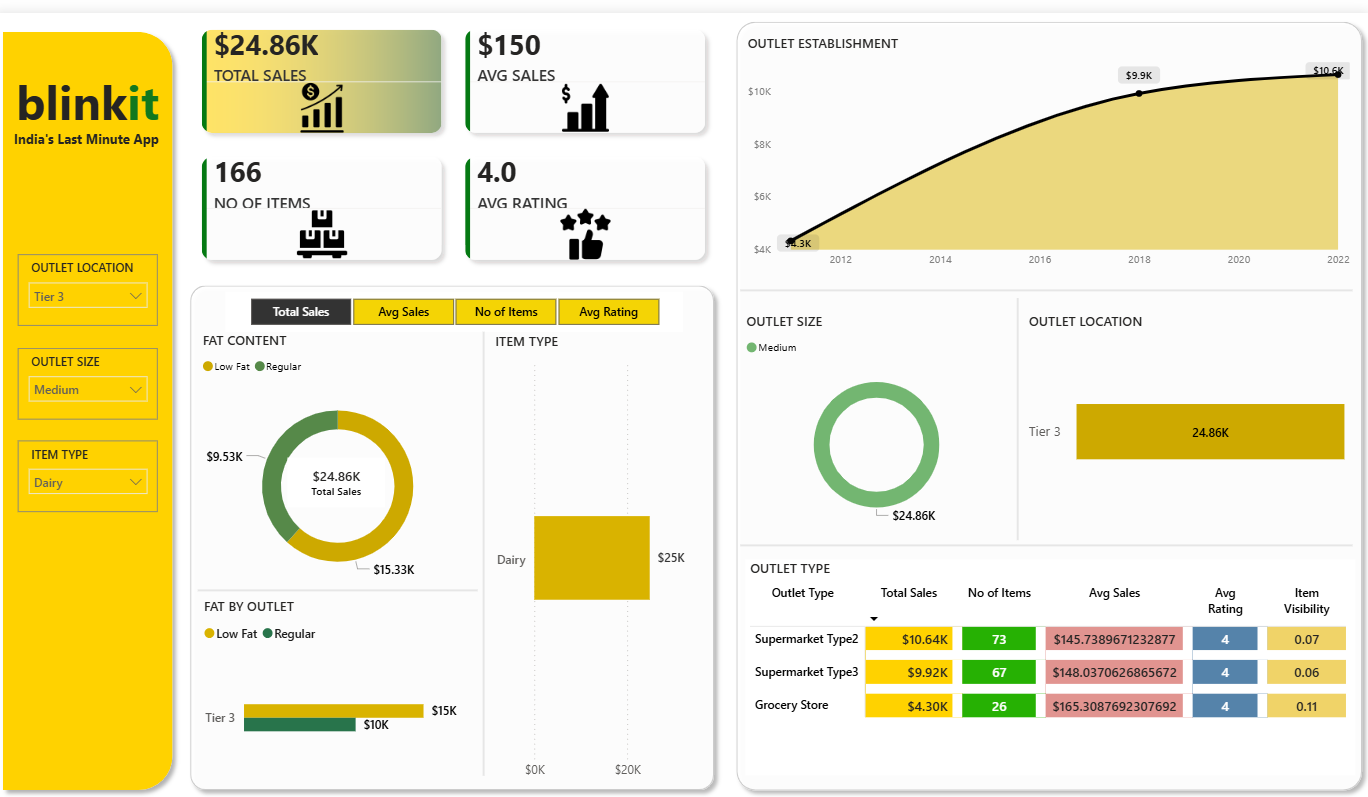

Layout of this report page (visuals, bound fields, positions):
{"tool":"powerbi","page":{"name":"Page 1","canvas":[1400,800],"ordinal":0},"visuals":[{"type":"shape","box":[0,10.5,190.6,789.5],"z":0},{"type":"textbox","box":[8.9,52.1,173,81.4],"z":1000},{"type":"textbox","box":[15.3,114.5,160.2,30.5],"z":2000},{"type":"cardVisual","fields":{"Data":["BlinkIT Grocery Data.Total Sales","BlinkIT Grocery Data.Avg Sales","BlinkIT Grocery Data.No of Items","BlinkIT Grocery Data.Avg Rating"]},"box":[194.6,0,546.9,268.3],"z":3000},{"type":"shape","box":[190.6,268.7,550.8,531.3],"z":4000},{"type":"donutChart","title":"FAT CONTENT","fields":{"Y":["BlinkIT Grocery Data.Total Sales"],"Category":["BlinkIT Grocery Data.Item Fat Content"]},"box":[207.1,322.7,285.2,271.7],"z":5000},{"type":"slicer","fields":{"Values":["Metrics.Metrics"]},"box":[235.6,283.7,465.3,40.5],"z":6000},{"type":"cardVisual","fields":{"Data":["BlinkIT Grocery Data.Total Sales"]},"box":[294.2,447.3,109.6,60],"z":7000},{"type":"clusteredBarChart","title":"FAT BY OUTLET","fields":{"Y":["BlinkIT Grocery Data.Total Sales"],"Category":["BlinkIT Grocery Data.Outlet Location Type"],"Series":["BlinkIT Grocery Data.Item Fat Content"]},"box":[208.4,594.1,284.4,194.6],"z":8000},{"type":"shape","box":[207.1,579.3,285.2,15],"z":9000},{"type":"shape","box":[492.3,324.2,12,451.8],"z":10000},{"type":"barChart","title":"ITEM TYPE","fields":{"Y":["BlinkIT Grocery Data.Total Sales"],"Category":["BlinkIT Grocery Data.Item Type"]},"box":[504.3,324.2,226.6,463.8],"z":11000},{"type":"shape","box":[745.9,0,654.4,800],"z":12000},{"type":"lineChart","title":" OUTLET ESTABLISHMENT","fields":{"Category":["BlinkIT Grocery Data.Outlet Establishment Year"],"Y":["BlinkIT Grocery Data.Total Sales"]},"box":[762.2,21.9,622.9,246.4],"z":13000},{"type":"shape","box":[758.8,275.2,622.9,15],"z":14000},{"type":"donutChart","title":"OUTLET SIZE","fields":{"Y":["BlinkIT Grocery Data.Total Sales"],"Category":["BlinkIT Grocery Data.Outlet Size"]},"box":[761.1,304,275.2,225.7],"z":15000},{"type":"shape","box":[1035.1,290.2,12.7,246.4],"z":16000},{"type":"funnel","title":"OUTLET LOCATION","fields":{"Category":["BlinkIT Grocery Data.Outlet Location Type"],"Y":["Sum(BlinkIT Grocery Data.Sales)"]},"box":[1047.8,304,336.2,225.7],"z":17000},{"type":"shape","box":[758.8,534.3,622.9,15],"z":18000},{"type":"pivotTable","title":"OUTLET TYPE","fields":{"Rows":["BlinkIT Grocery Data.Outlet Type"],"Values":["BlinkIT Grocery Data.Total Sales","BlinkIT Grocery Data.No of Items","BlinkIT Grocery Data.Avg Sales","BlinkIT Grocery Data.Avg Rating","Avg(BlinkIT Grocery Data.Item Visibility)"]},"box":[764.5,556.1,620.6,219.9],"z":19000},{"type":"slicer","fields":{"Values":["BlinkIT Grocery Data.Outlet Location Type"]},"box":[24.2,245.5,142.4,72.5],"z":20000},{"type":"slicer","fields":{"Values":["BlinkIT Grocery Data.Outlet Size"]},"box":[24.2,340.8,142.4,72.5],"z":21000},{"type":"slicer","fields":{"Values":["BlinkIT Grocery Data.Item Type"]},"box":[24.2,435,142.4,72.5],"z":22000}]}

Visuals, with their boxes in screenshot pixels (x1, y1, x2, y2), scaled from the page's 1400x800 canvas onto the 1368x797 screenshot:
shape: crop(0, 10, 186, 796)
textbox: crop(9, 52, 178, 133)
textbox: crop(15, 114, 171, 144)
cardVisual - BlinkIT Grocery Data.Total Sales x BlinkIT Grocery Data.Avg Sales: crop(190, 0, 725, 267)
shape: crop(186, 268, 724, 796)
"FAT CONTENT" donutChart: crop(202, 321, 481, 592)
slicer - Metrics.Metrics: crop(230, 283, 685, 323)
cardVisual - BlinkIT Grocery Data.Total Sales: crop(287, 446, 395, 505)
"FAT BY OUTLET" clusteredBarChart: crop(204, 592, 482, 786)
shape: crop(202, 577, 481, 592)
shape: crop(481, 323, 493, 773)
"ITEM TYPE" barChart: crop(493, 323, 714, 785)
shape: crop(729, 0, 1367, 796)
" OUTLET ESTABLISHMENT" lineChart: crop(745, 22, 1353, 267)
shape: crop(741, 274, 1350, 289)
"OUTLET SIZE" donutChart: crop(744, 303, 1013, 528)
shape: crop(1011, 289, 1024, 535)
"OUTLET LOCATION" funnel: crop(1024, 303, 1352, 528)
shape: crop(741, 532, 1350, 547)
"OUTLET TYPE" pivotTable: crop(747, 554, 1353, 773)
slicer - BlinkIT Grocery Data.Outlet Location Type: crop(24, 245, 163, 317)
slicer - BlinkIT Grocery Data.Outlet Size: crop(24, 340, 163, 412)
slicer - BlinkIT Grocery Data.Item Type: crop(24, 433, 163, 506)
